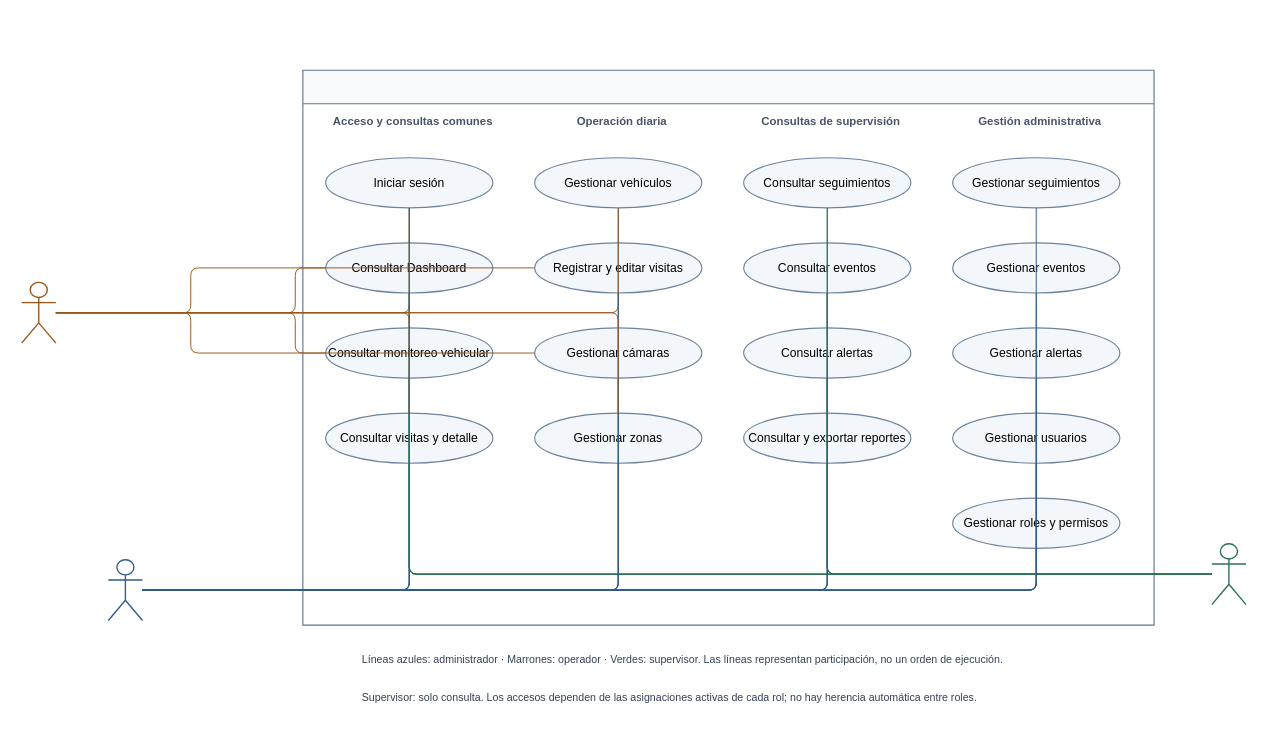
The diagram is 1263 pixels wide and 733 high, and some of its shapes have lost their labels. Here are the shapes that lost their labels. From the top down, the box of each, then its label:
(21, 281, 56, 343): operador
(107, 559, 143, 621): administrador
